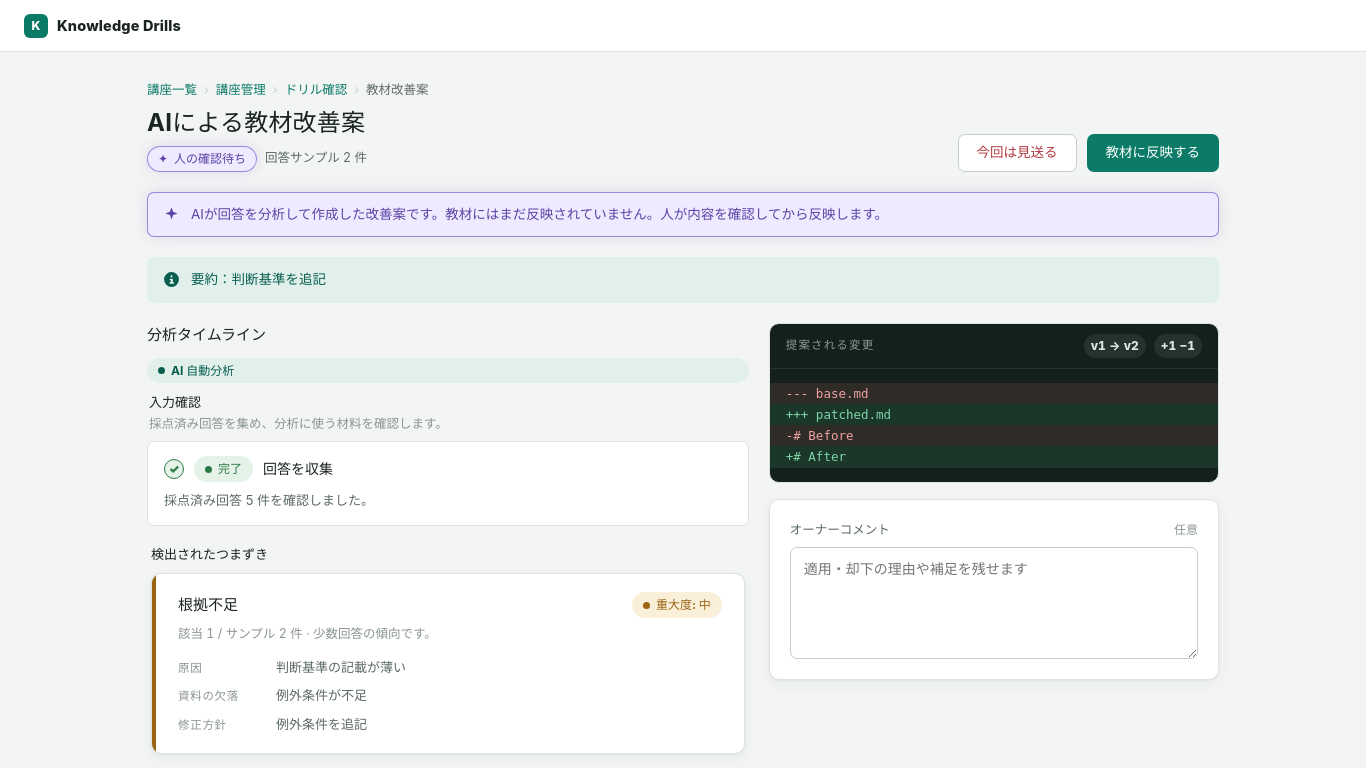
Scenario: PatchReviewPage › keeps automatic patch application behind the existing owner action
Expected: the text "AI 自動分析" is shown, top-left (147, 358), bottom-right (749, 383)
What coordinates should you click on to do the following:
click the button "教材に反映する"
I would click on:
 (1153, 153)
Its box is top-left (1086, 134), bottom-right (1219, 172).
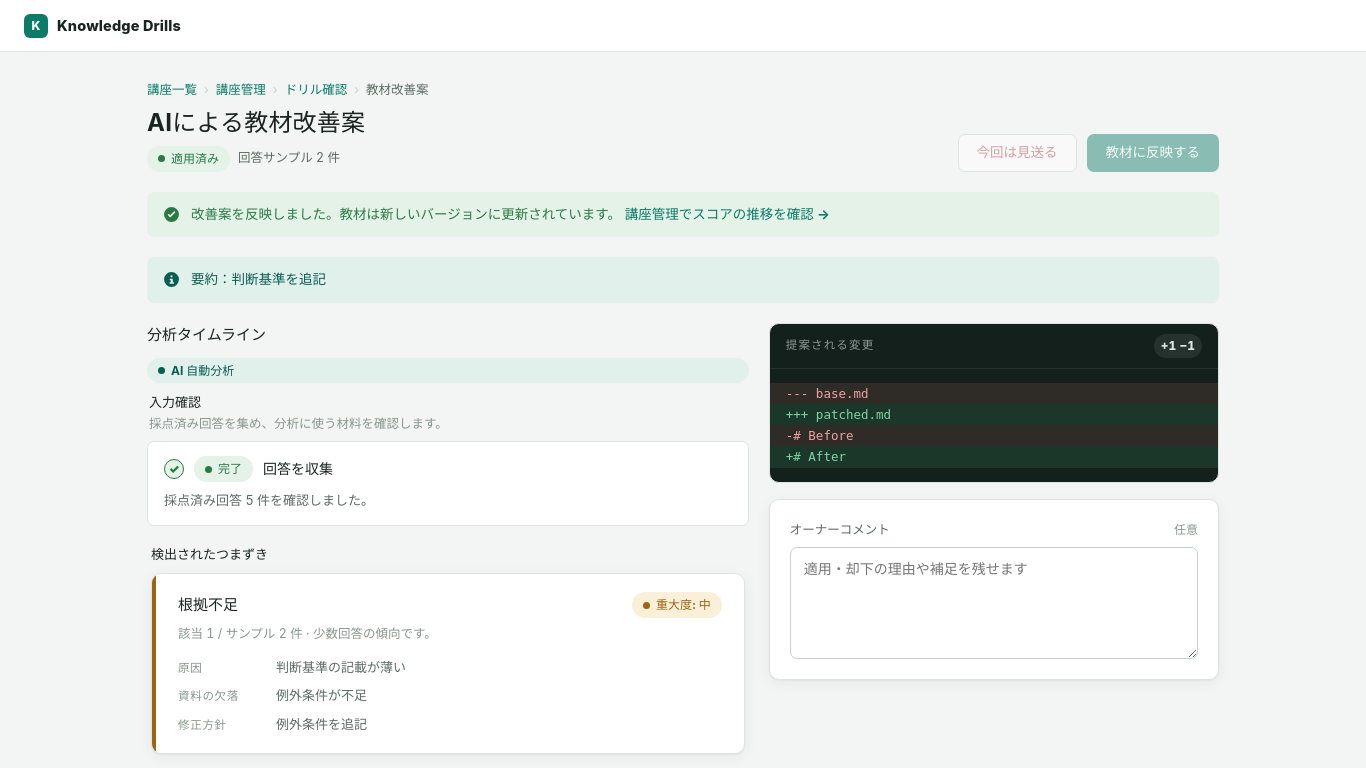
Result: the text "改善案を反映しました。教材は新しいバージョンに更新されています。 講座管理でスコアの推移を確認 →" is shown at top-left (191, 204), bottom-right (830, 225)
